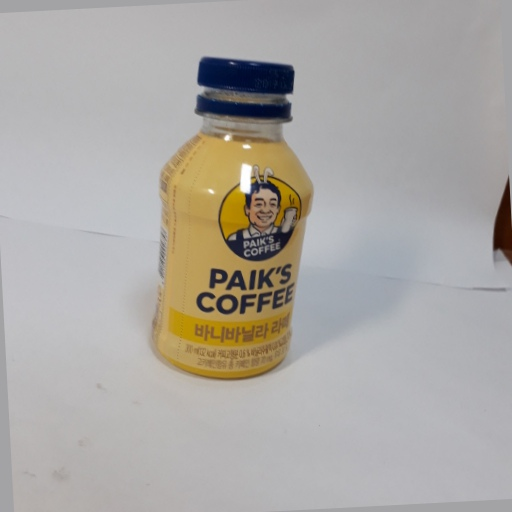Plastic_0: (148, 53, 319, 390)
